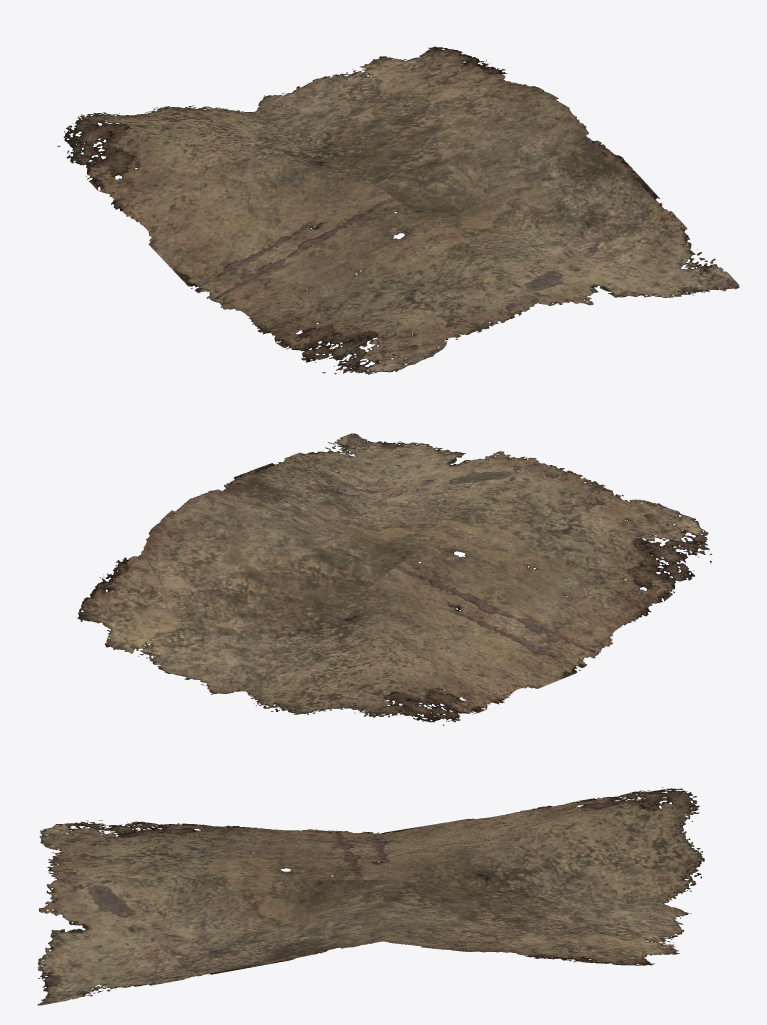
The model's file is paperTrash02.FBX.
3 renders of one model, top to bottom at view 1: azimuth 30°, elevation 25°; view 2: azimuth 150°, elevation 25°; view 3: azimuth 270°, elevation 25°, orthographic. The views are drawn at different scales.
Visible parts, largest first — view 1: SM_PaperTrash02; view 2: SM_PaperTrash02; view 3: SM_PaperTrash02.
Boxes of the visible parts, <box> form: SM_PaperTrash02: <box>57,46,739,374</box>; SM_PaperTrash02: <box>77,433,712,725</box>; SM_PaperTrash02: <box>37,787,704,1005</box>.
Bounding box in the file's own units: 18.53 × 3.85 × 28.88.
1 material, 1 textured.
